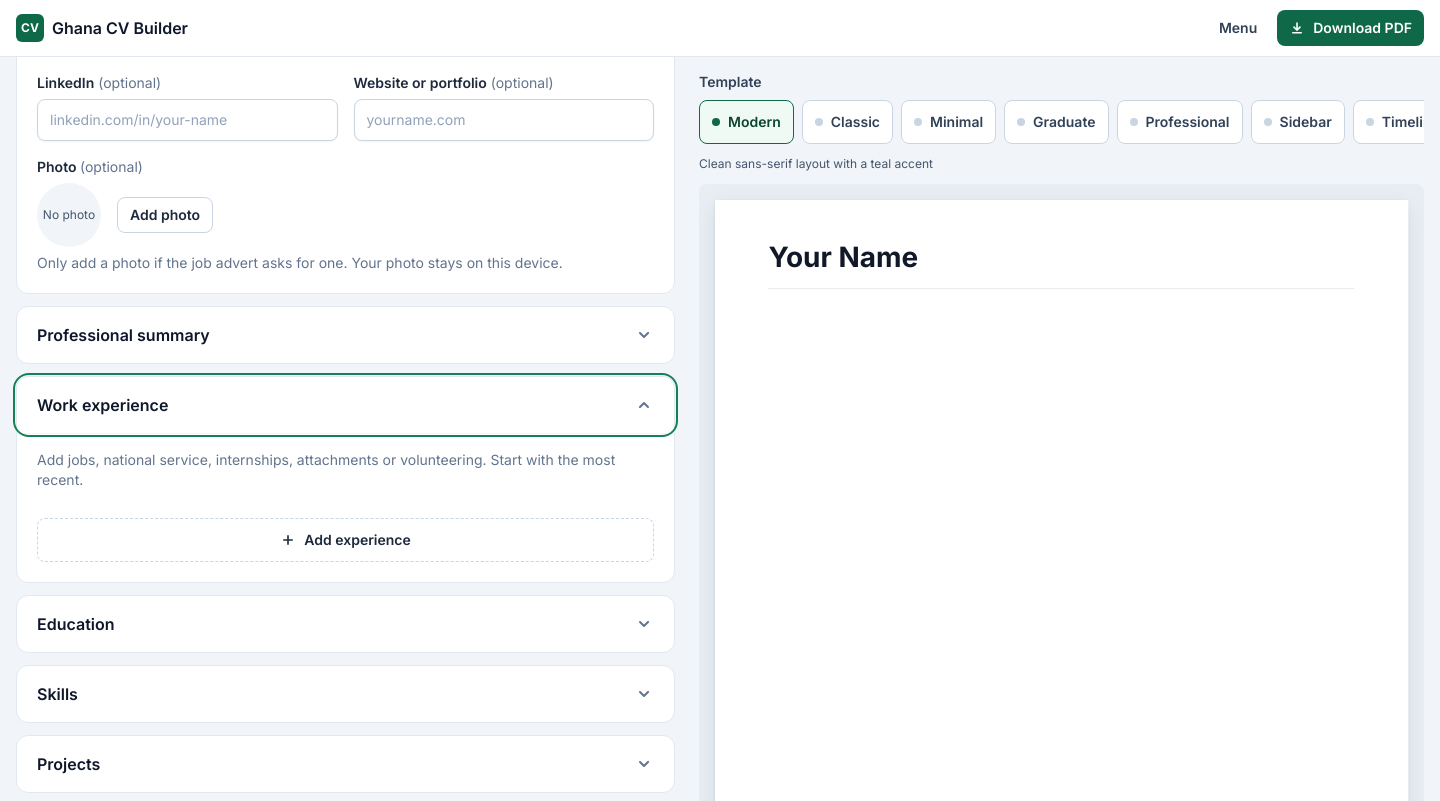
Builder › asks for confirmation before deleting an entry with content
Earlier steps of the test are not shown.
(page scrolled)
Step 1. Click the button "Add experience" → (346, 540), box [37,518,654,562]
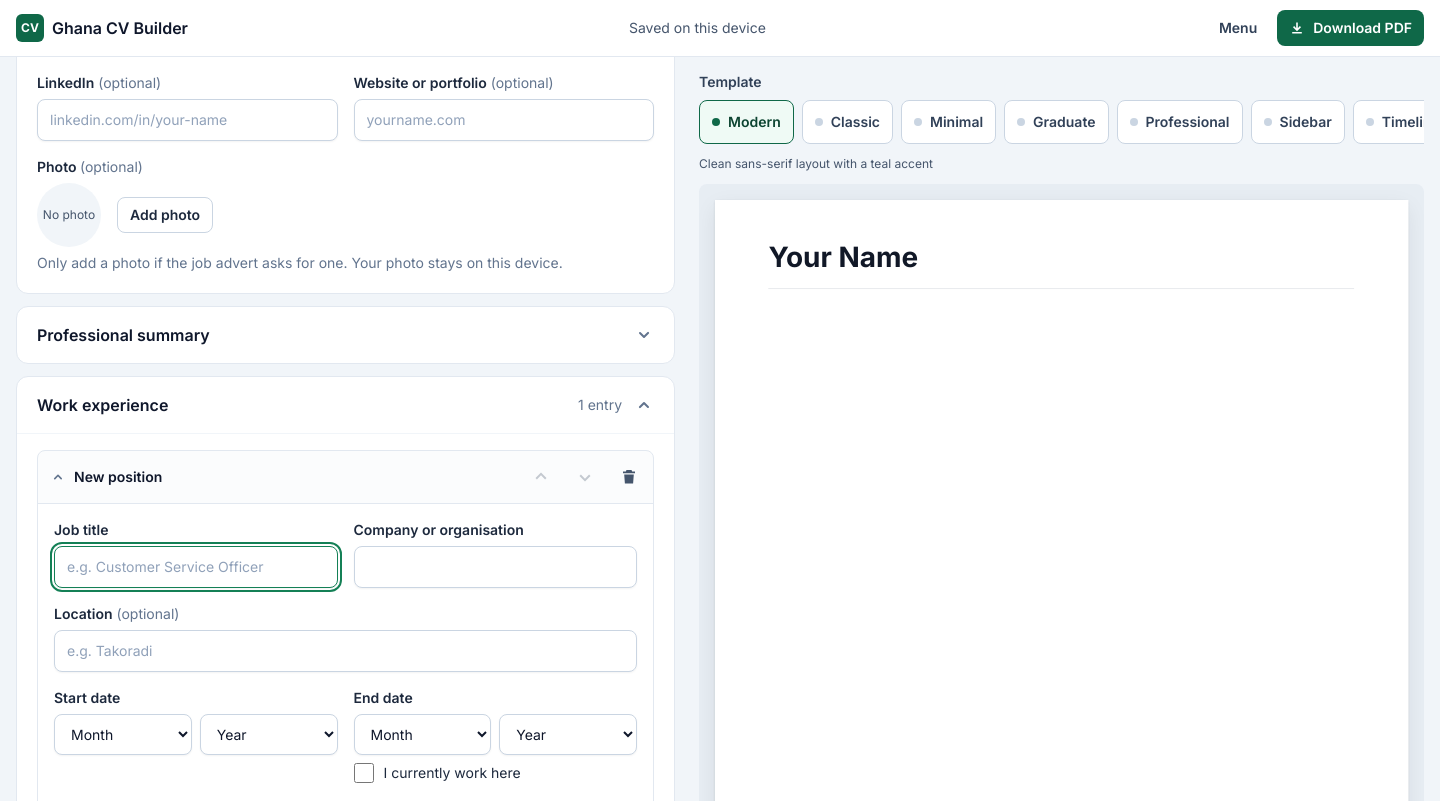
Step 2. Type "Nurse" into the field labelled "Job title" → (196, 567), box [54,546,338,588]
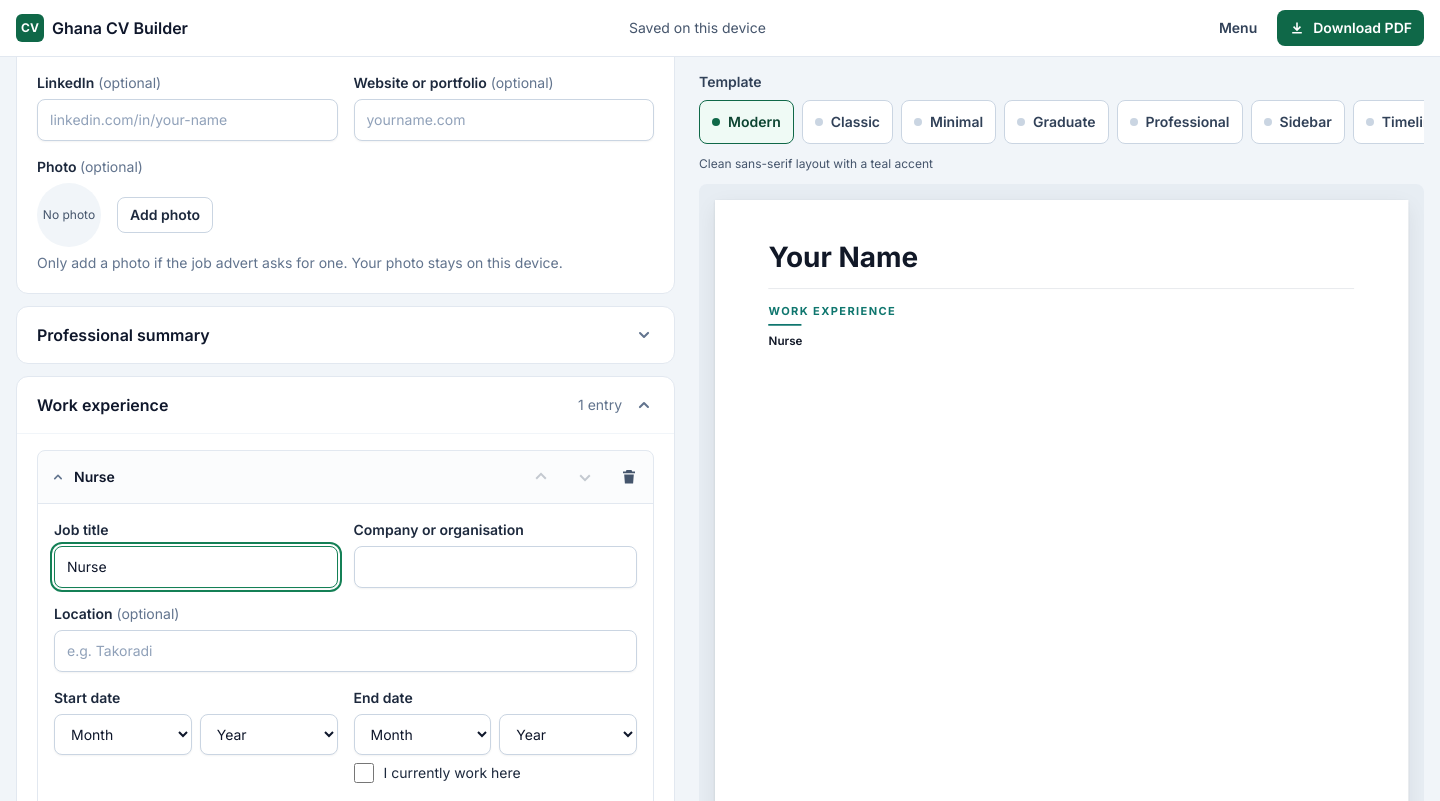
Step 3. Click the button named "Delete Nurse" → (629, 477), box [609,457,649,497]
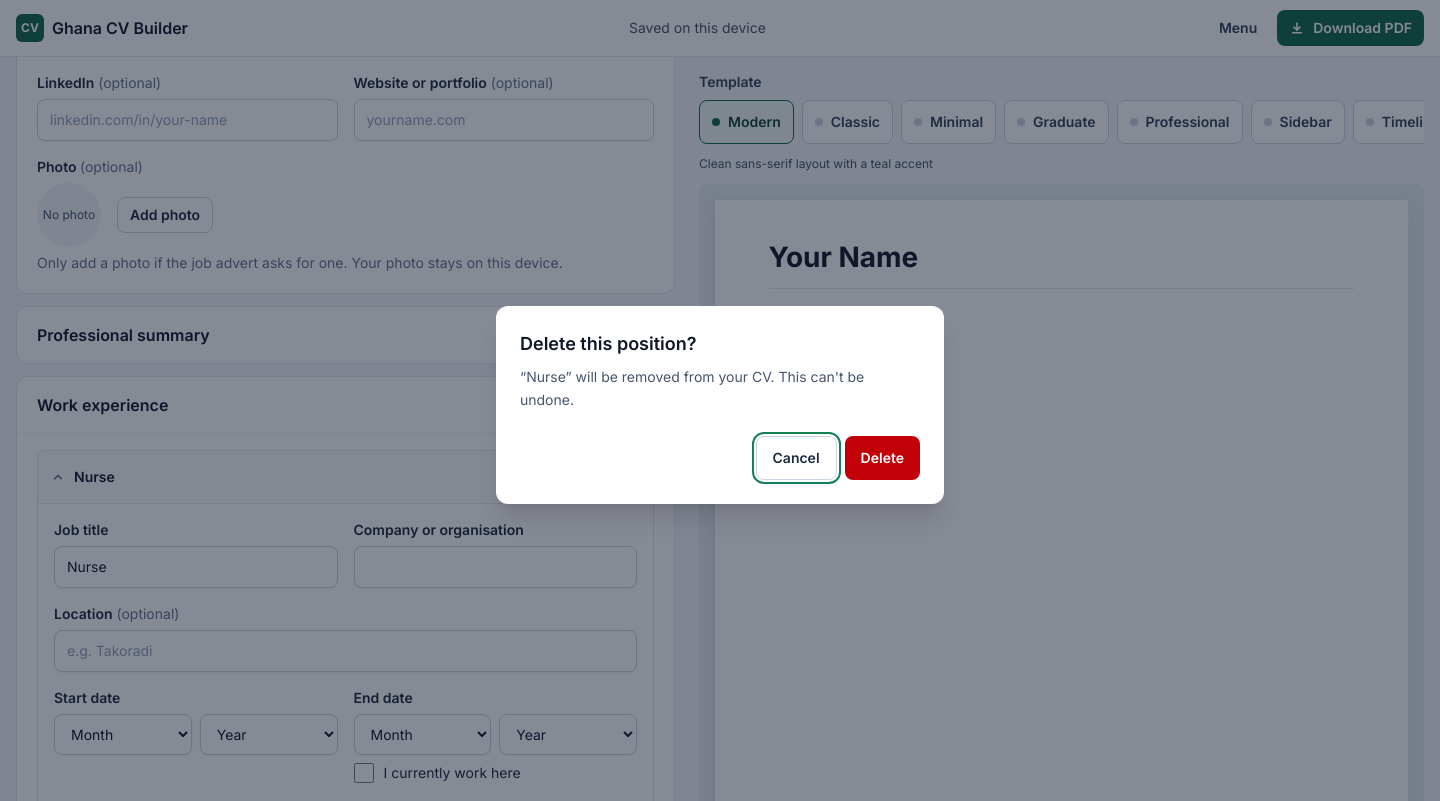
Step 4. Click the button "Cancel" → (796, 458), box [756,436,836,480]
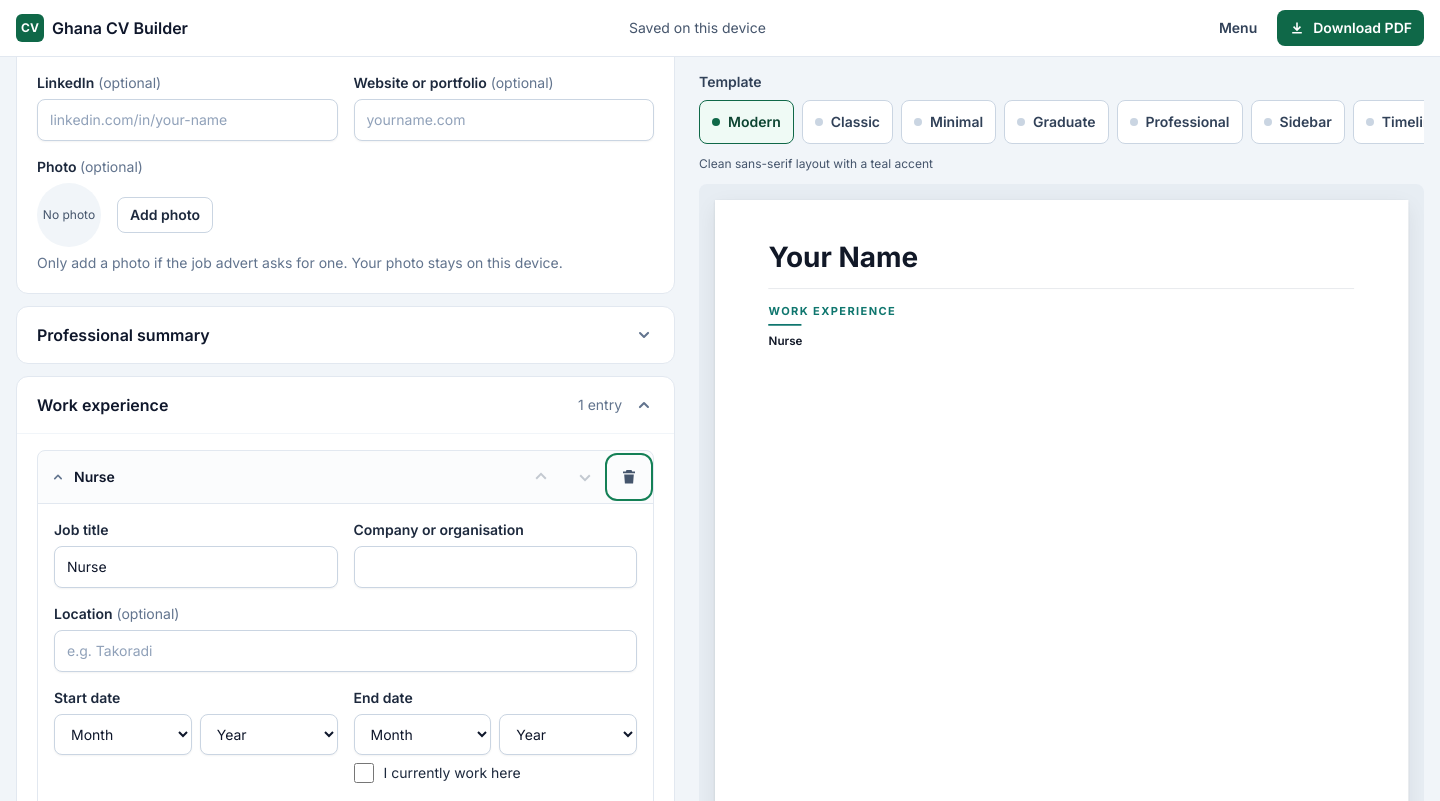
Step 5. Click the button named "Delete Nurse" → (629, 477), box [609,457,649,497]
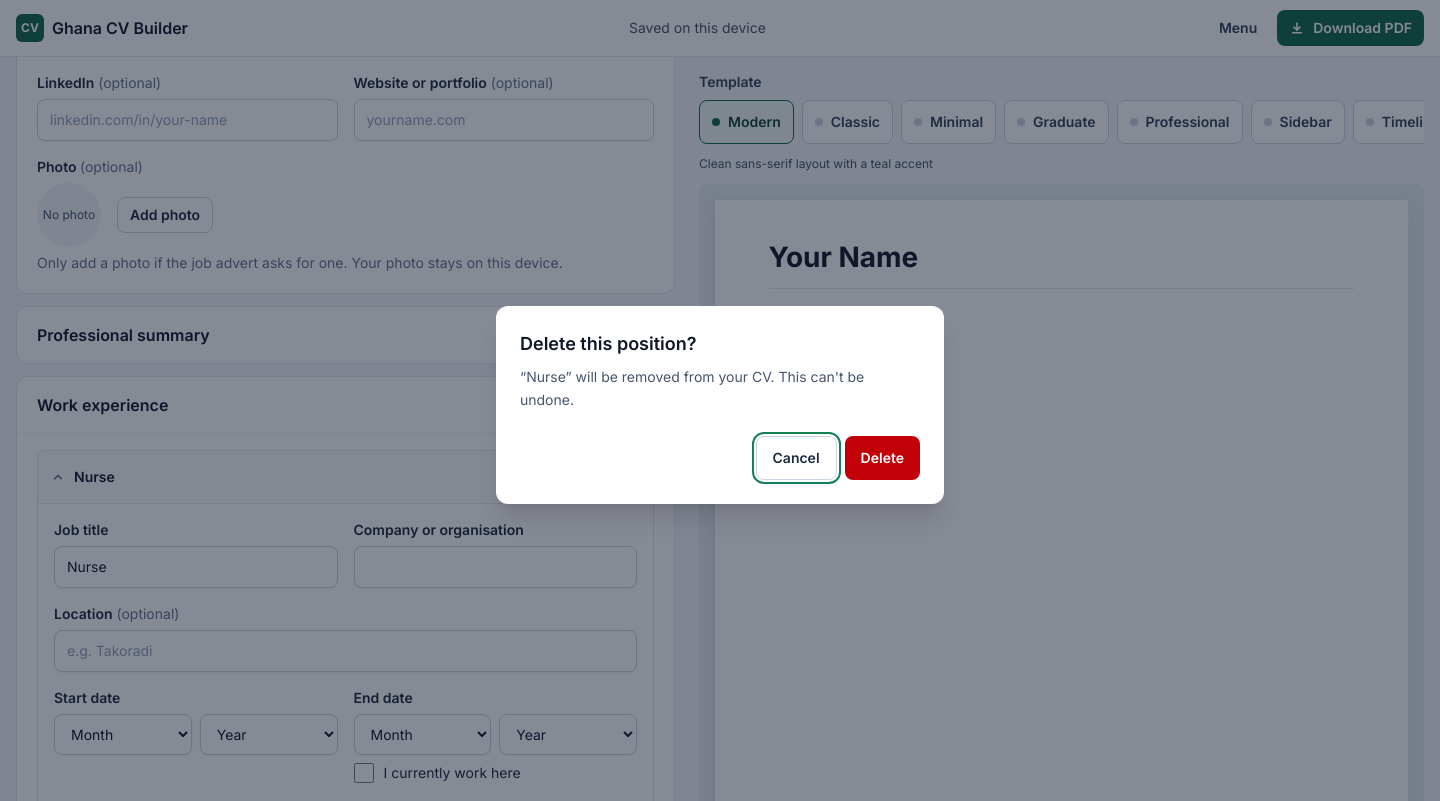
Step 6. Click the button "Delete" → (882, 458), box [845,436,920,480]
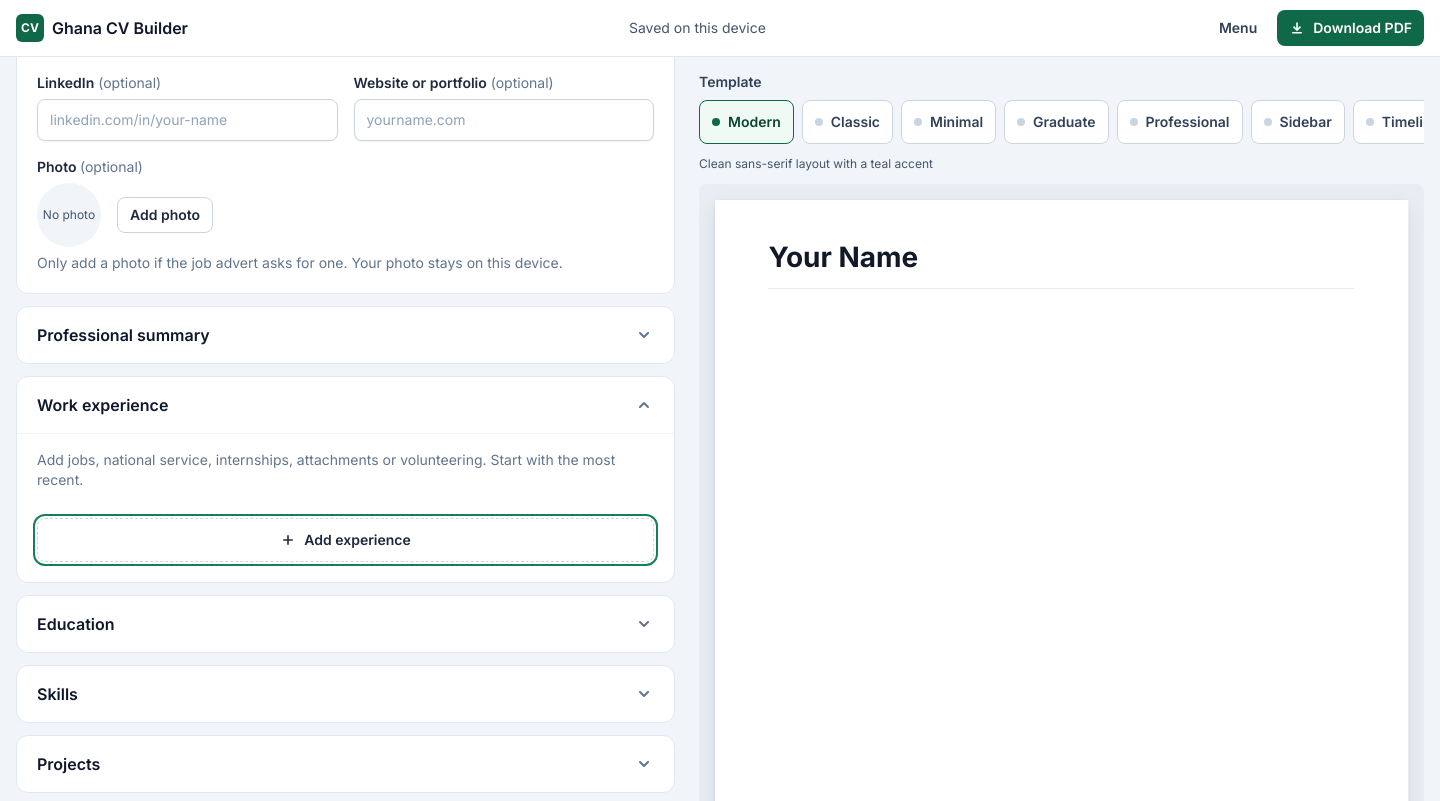
expect the label labelled "Job title" is gone: met
